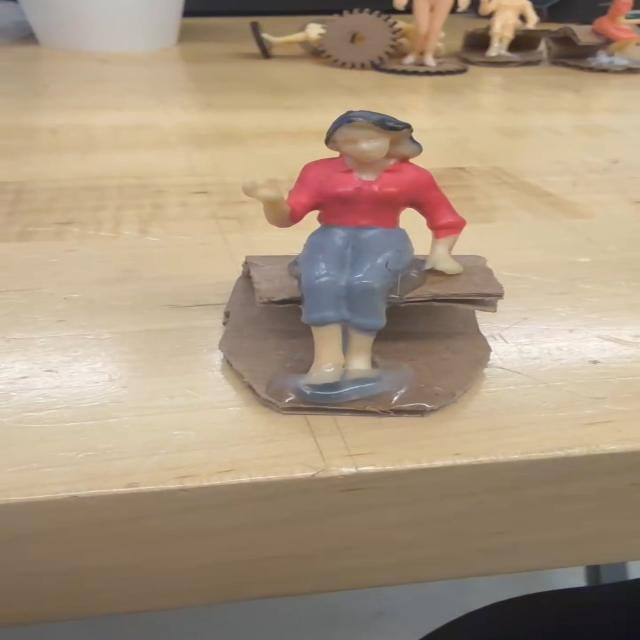Authorized: (238, 81, 490, 416)
